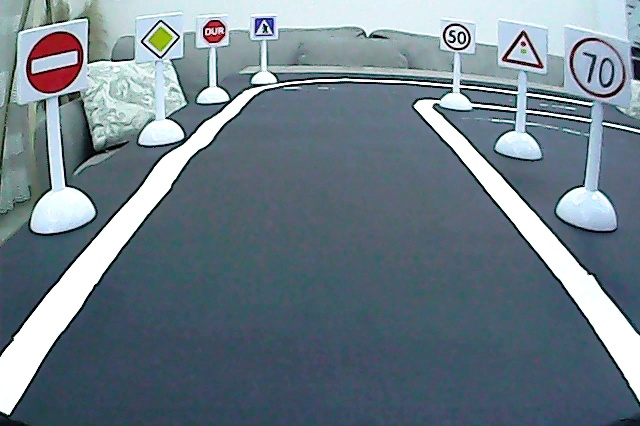do not enter: (23, 28, 84, 97)
pedestrian crossing: (252, 16, 276, 40)
red light: (500, 26, 547, 70)
speed limit 50: (442, 21, 473, 53)
speed limit 70: (568, 33, 628, 102)
stop sign: (201, 18, 228, 45)
